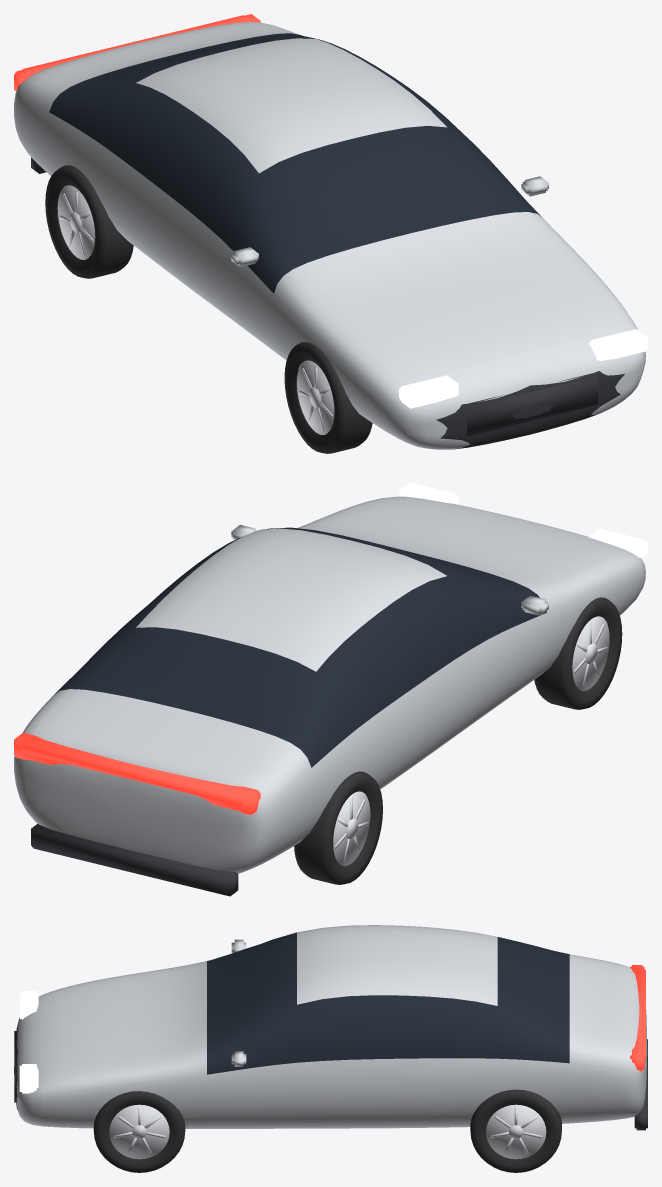
The model's file is traffic_sedan.glb.
The picture shows the model from 3 angles, top to bottom: view 1: azimuth 30°, elevation 25°; view 2: azimuth 150°, elevation 25°; view 3: azimuth 270°, elevation 25°; orthographic projection. The views are drawn at different scales.
Visible parts, largest first — view 1: SedanBody, WheelRR_Tire, WheelFR_Tire, FrontGrille, WheelFR_Rim, WheelRR_Rim, HeadlightR, HeadlightL, TaillightBar; view 2: SedanBody, RearDiffuser, WheelRR_Tire, WheelFR_Tire, TaillightBar, WheelRR_Rim, WheelFR_Rim, HeadlightR, TaillightR, HeadlightL; view 3: SedanBody, WheelRL_Tire, WheelFL_Tire, WheelFL_Rim, WheelRL_Rim, TaillightBar, HeadlightL, HeadlightR, RearDiffuser.
Boxes of the visible parts, x1,y1,x2,y2 form: SedanBody: (14,22,645,449); WheelRR_Tire: (45,165,133,278); WheelFR_Tire: (284,342,372,453); FrontGrille: (465,372,597,436); WheelFR_Rim: (297,360,334,434); WheelRR_Rim: (57,185,95,259); HeadlightR: (399,375,458,408); HeadlightL: (588,329,647,360); TaillightBar: (22,15,247,72); SedanBody: (14,496,645,873); RearDiffuser: (31,824,238,896); WheelRR_Tire: (294,771,382,884); WheelFR_Tire: (534,597,622,709); TaillightBar: (21,736,247,806); WheelRR_Rim: (333,791,370,866); WheelFR_Rim: (572,616,609,690); HeadlightR: (588,528,647,558); TaillightR: (198,780,260,815); HeadlightL: (399,482,458,504); SedanBody: (14,925,647,1128); WheelRL_Tire: (470,1089,561,1172); WheelFL_Tire: (93,1091,185,1172); WheelFL_Rim: (109,1104,169,1159); WheelRL_Rim: (486,1104,546,1159); TaillightBar: (636,967,645,1061); HeadlightL: (19,1064,38,1093); HeadlightR: (19,991,38,1019); RearDiffuser: (634,1039,647,1130).
Size of the model in its own units: 2.11 by 1.4 by 4.71.
